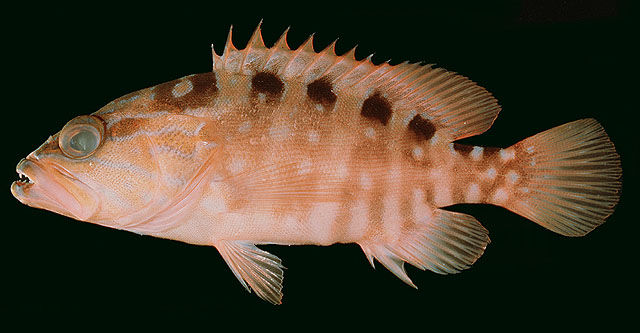fish: (11, 20, 625, 305)
